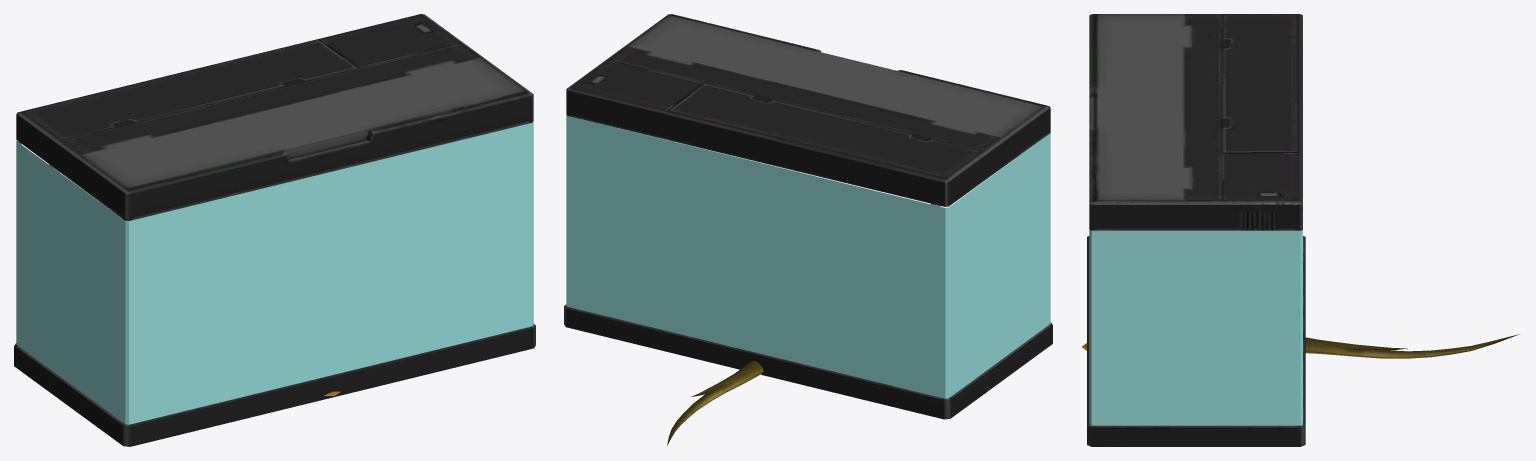
File: FtrFishEi.glb
The picture shows the model from 3 angles, left to right: view 1: azimuth 30°, elevation 25°; view 2: azimuth 150°, elevation 25°; view 3: azimuth 270°, elevation 25°; orthographic projection. The views are drawn at different scales.
Parts seen in each view (by area): view 1: Light__mGlass, Light__mBody; view 2: Light__mGlass, Light__mBody, FishEi__mEi, Light__mWater; view 3: Light__mBody, Light__mGlass, FishEi__mEi.
Boxes of the visible parts, left/top/right/bottom form: Light__mGlass: left=16, top=122, right=533, bottom=424; Light__mBody: left=14, top=14, right=535, bottom=446; Light__mGlass: left=566, top=115, right=1050, bottom=398; Light__mBody: left=564, top=14, right=1052, bottom=419; FishEi__mEi: left=667, top=360, right=763, bottom=445; Light__mWater: left=608, top=125, right=1019, bottom=207; Light__mBody: left=1087, top=14, right=1305, bottom=446; Light__mGlass: left=1089, top=230, right=1302, bottom=425; FishEi__mEi: left=1081, top=334, right=1519, bottom=358.
Bounding box in the file's own units: 19.2 × 11.47 × 18.53.
Materials: 5 (4 with a texture image).
